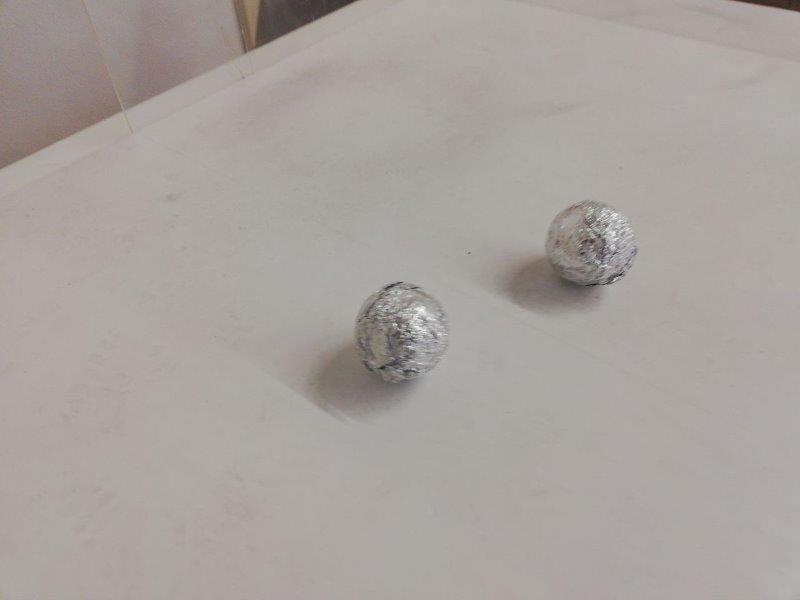bianca: (352, 282, 449, 381), (545, 200, 635, 287)
